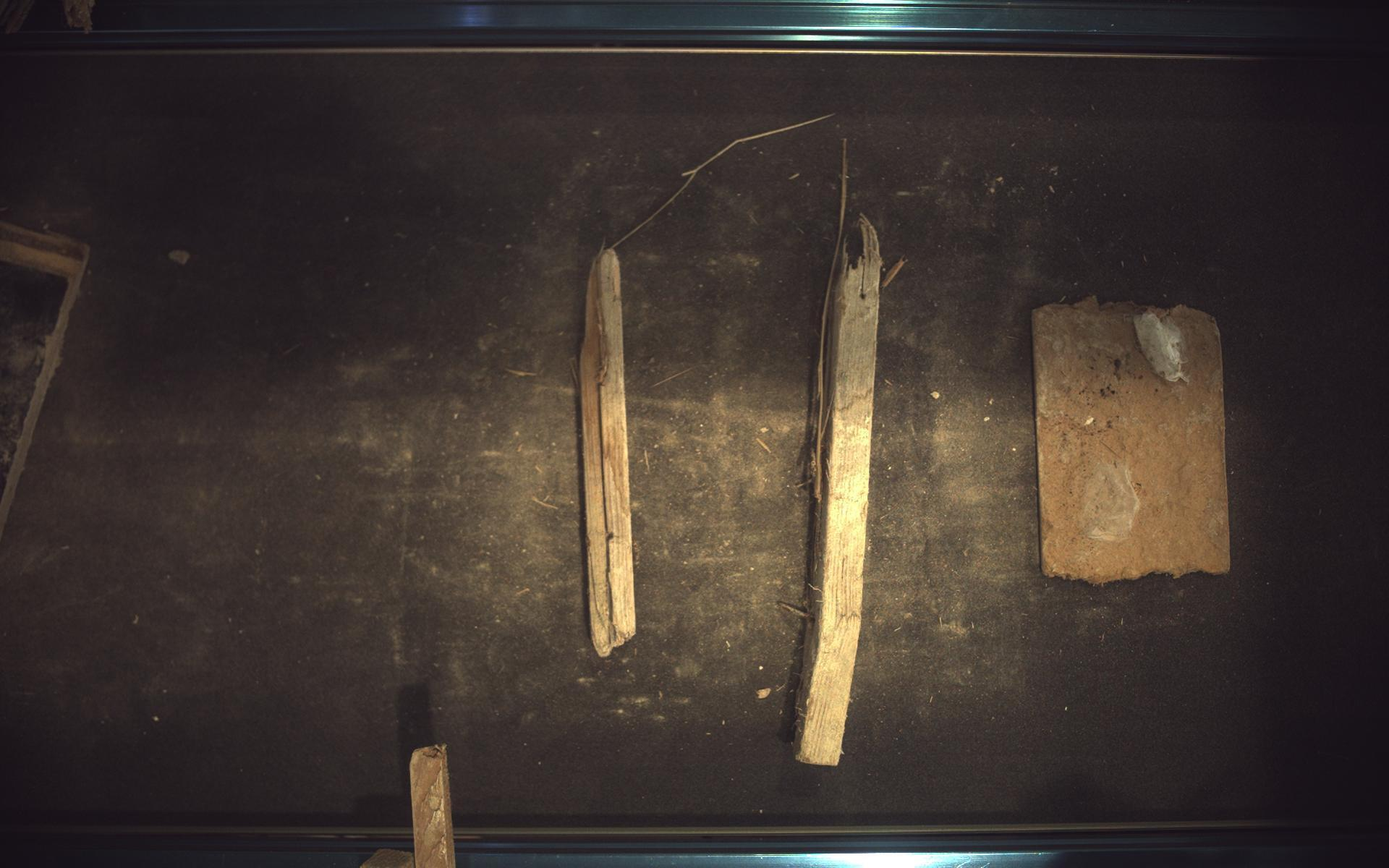wood: (1035, 296, 1233, 584), (797, 217, 883, 767), (580, 248, 637, 658)
